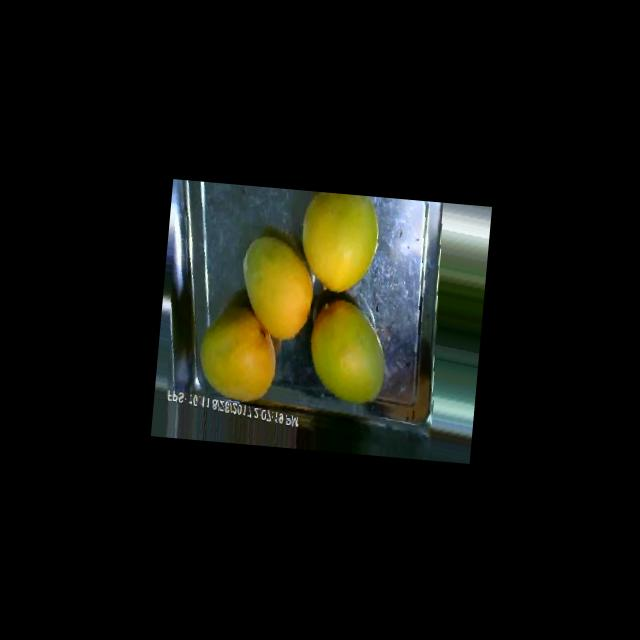Mango: (303, 296, 390, 404), (234, 233, 316, 342), (295, 190, 380, 295), (194, 301, 279, 404)
